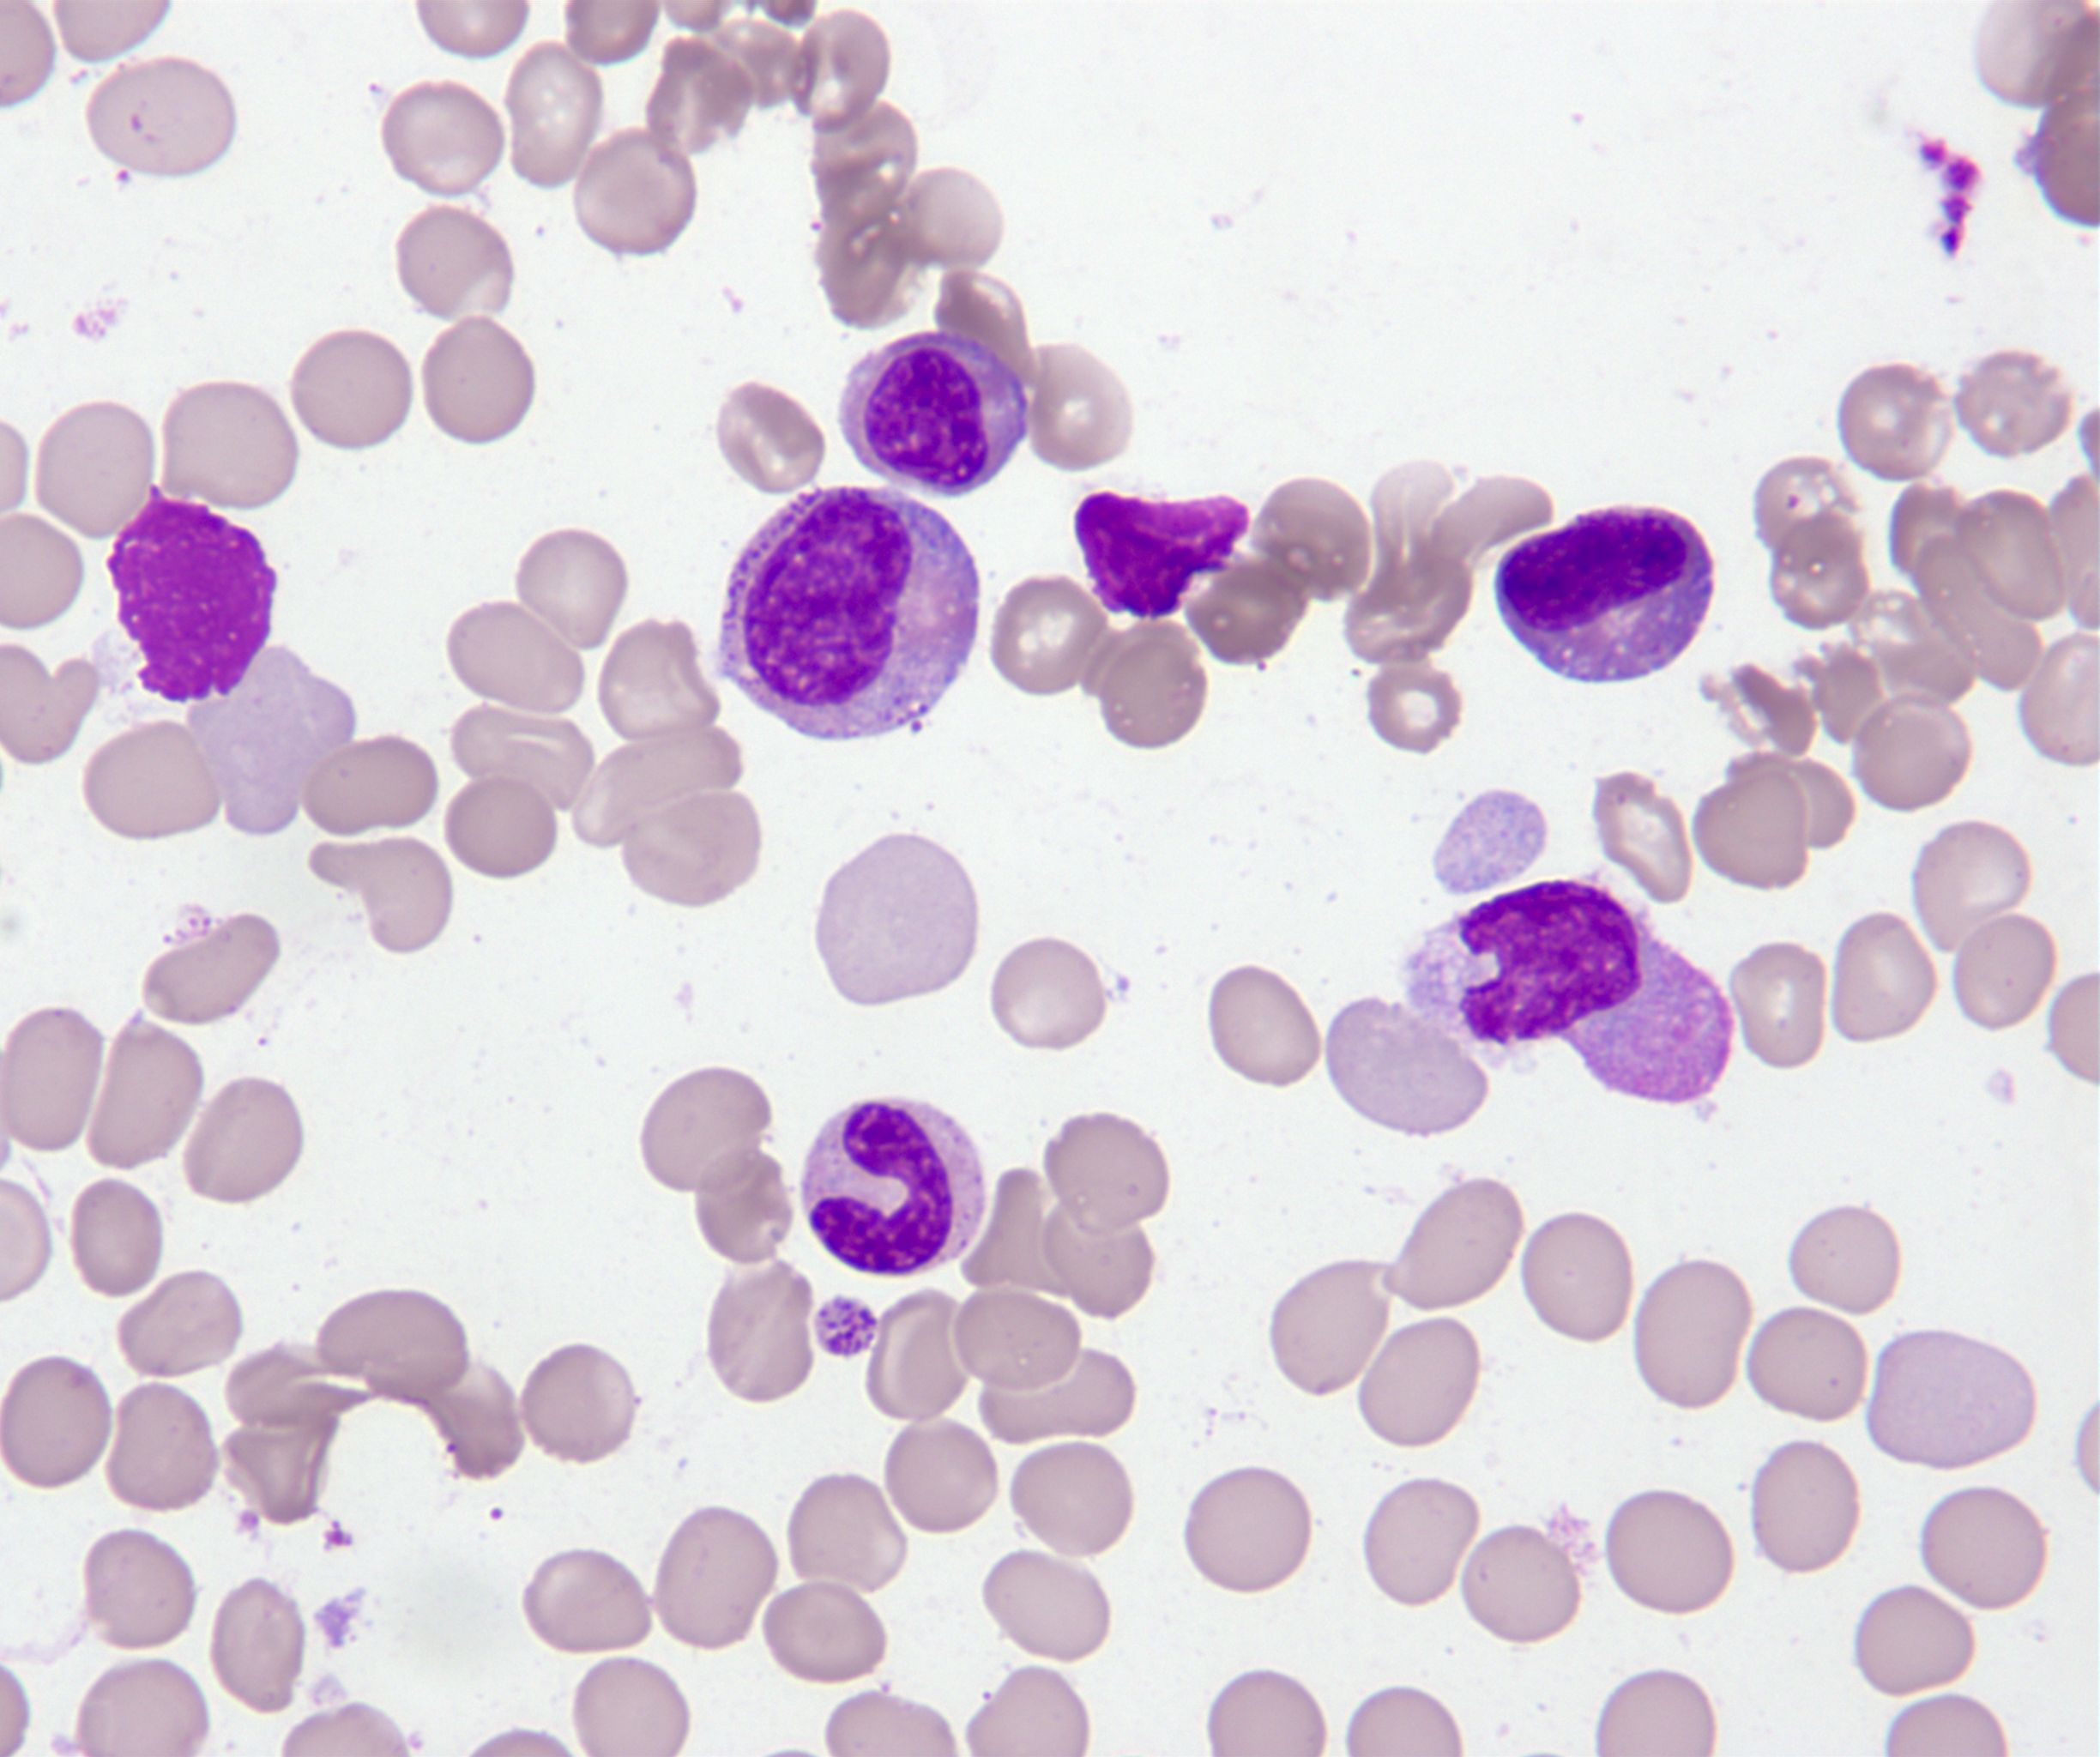3: (1408, 881, 1732, 1103), (720, 487, 978, 742), (1497, 506, 1715, 682)
4: (841, 332, 1026, 496)
5: (802, 1096, 985, 1277)
x: (105, 483, 276, 703), (1076, 492, 1247, 618)
